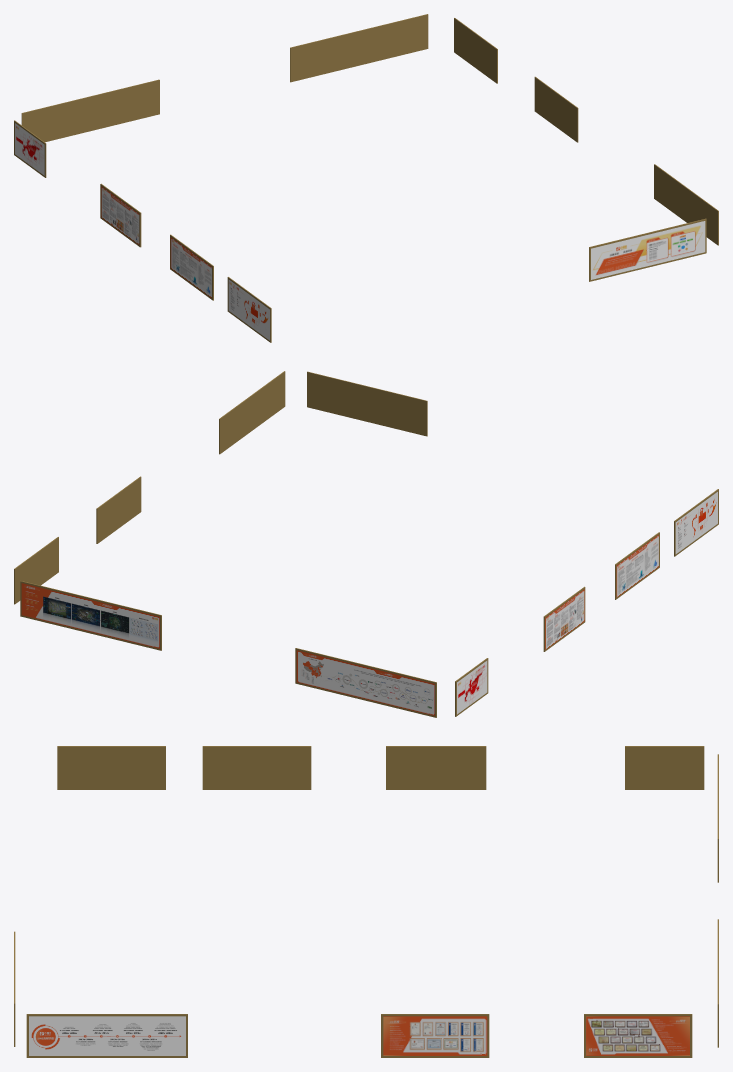
File: wall 1.glb
The picture shows the model from 3 angles, top to bottom: view 1: azimuth 30°, elevation 25°; view 2: azimuth 150°, elevation 25°; view 3: azimuth 270°, elevation 25°; orthographic projection. The views are drawn at different scales.
Parts seen in each view (by area): view 1: 立方体.580, 立方体.581, 立方体.575, 立方体.577, 立方体.579, 立方体.583, 立方体.582, 立方体.578, 立方体.576, 立方体.584; view 2: 立方体.580, 立方体.581, 立方体.575, 立方体.577, 立方体.579, 立方体.582, 立方体.583, 立方体.576, 立方体.578, 立方体.584; view 3: 立方体.577, 立方体.582, 立方体.578, 立方体.579, 立方体.583, 立方体.576, 立方体.584.
Boxes of the visible parts, <box> form: 立方体.580: <box>290,14,428,82</box>; 立方体.581: <box>21,79,159,142</box>; 立方体.575: <box>589,218,706,281</box>; 立方体.577: <box>654,164,718,245</box>; 立方体.579: <box>534,76,578,142</box>; 立方体.583: <box>227,277,271,342</box>; 立方体.582: <box>170,234,213,300</box>; 立方体.578: <box>454,18,497,83</box>; 立方体.576: <box>100,183,141,247</box>; 立方体.584: <box>14,120,46,177</box>; 立方体.580: <box>20,581,161,650</box>; 立方体.581: <box>295,648,436,717</box>; 立方体.575: <box>307,371,427,436</box>; 立方体.577: <box>219,371,285,454</box>; 立方体.579: <box>96,476,141,543</box>; 立方体.582: <box>615,532,659,599</box>; 立方体.583: <box>674,489,718,556</box>; 立方体.576: <box>543,586,585,651</box>; 立方体.578: <box>14,537,58,604</box>; 立方体.584: <box>455,658,488,716</box>; 立方体.577: <box>26,1014,187,1057</box>; 立方体.582: <box>202,746,311,789</box>; 立方体.578: <box>584,1014,692,1057</box>; 立方体.579: <box>381,1014,489,1057</box>; 立方体.583: <box>57,746,165,789</box>; 立方体.576: <box>386,746,486,789</box>; 立方体.584: <box>625,746,704,789</box>.
Size of the model in its own units: 7.23 by 0.5455 by 8.03.
11 materials, 10 textured.
